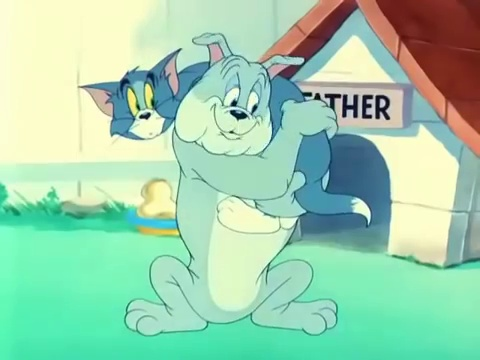spike: (175, 30, 307, 155)
tom: (79, 46, 182, 140)
